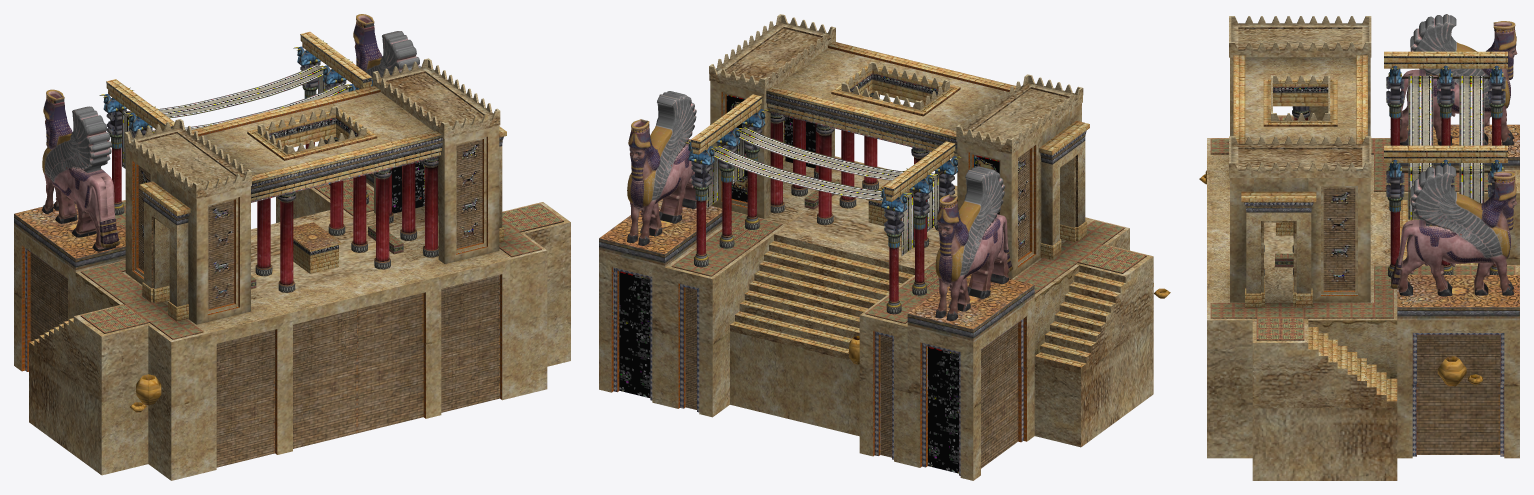
Rendered from pers_town_center.glb.
3 views of the same model, side by side, from view 1: azimuth 30°, elevation 25°; view 2: azimuth 150°, elevation 25°; view 3: azimuth 270°, elevation 25° (orthographic).
Parts seen in each view (by area): view 1: pers_town_center_part0, pers_town_center_part1, pers_town_center_part2; view 2: pers_town_center_part0, pers_town_center_part1, pers_town_center_part2; view 3: pers_town_center_part0, pers_town_center_part2, pers_town_center_part1.
Boxes of the visible parts, box(x1,y1,x2,y2) form: pers_town_center_part0: box(14, 31, 570, 480); pers_town_center_part1: box(42, 89, 119, 251); pers_town_center_part2: box(353, 14, 421, 87); pers_town_center_part0: box(599, 14, 1170, 480); pers_town_center_part1: box(935, 166, 1012, 320); pers_town_center_part2: box(627, 91, 696, 245); pers_town_center_part0: box(1199, 16, 1519, 480); pers_town_center_part2: box(1390, 164, 1517, 296); pers_town_center_part1: box(1390, 14, 1517, 145).
Bounding box in the file's own units: 6.2 × 3.52 × 3.69.
2 materials, 2 textured.
